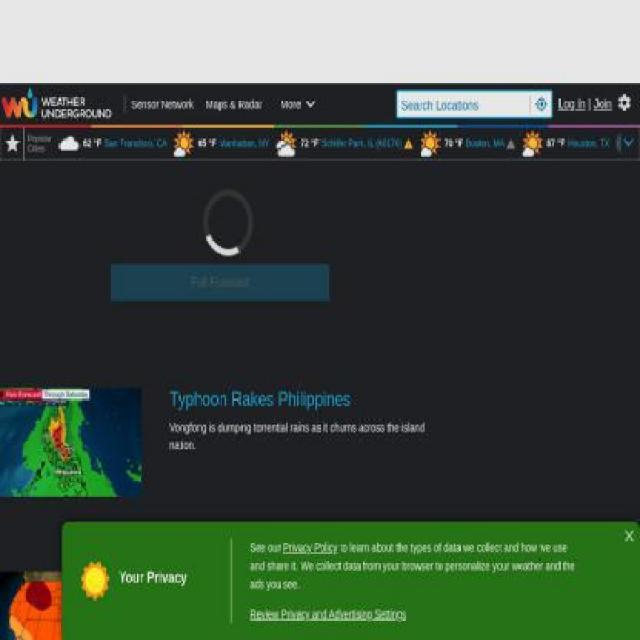button: (0, 388, 142, 555), (0, 572, 143, 639), (111, 264, 329, 301), (1, 83, 124, 125), (272, 127, 417, 159), (55, 127, 170, 159), (170, 127, 272, 159), (417, 127, 518, 159), (125, 125, 201, 167), (125, 83, 200, 125), (518, 127, 613, 159), (250, 605, 407, 624), (200, 83, 268, 125), (200, 125, 268, 167), (268, 125, 329, 167), (275, 83, 319, 125), (608, 83, 640, 126), (612, 128, 640, 160), (0, 127, 25, 159), (621, 526, 637, 542)
field: (396, 90, 553, 118)
